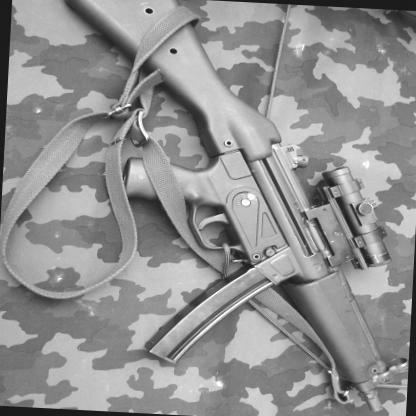rifle: (40, 0, 413, 406)
